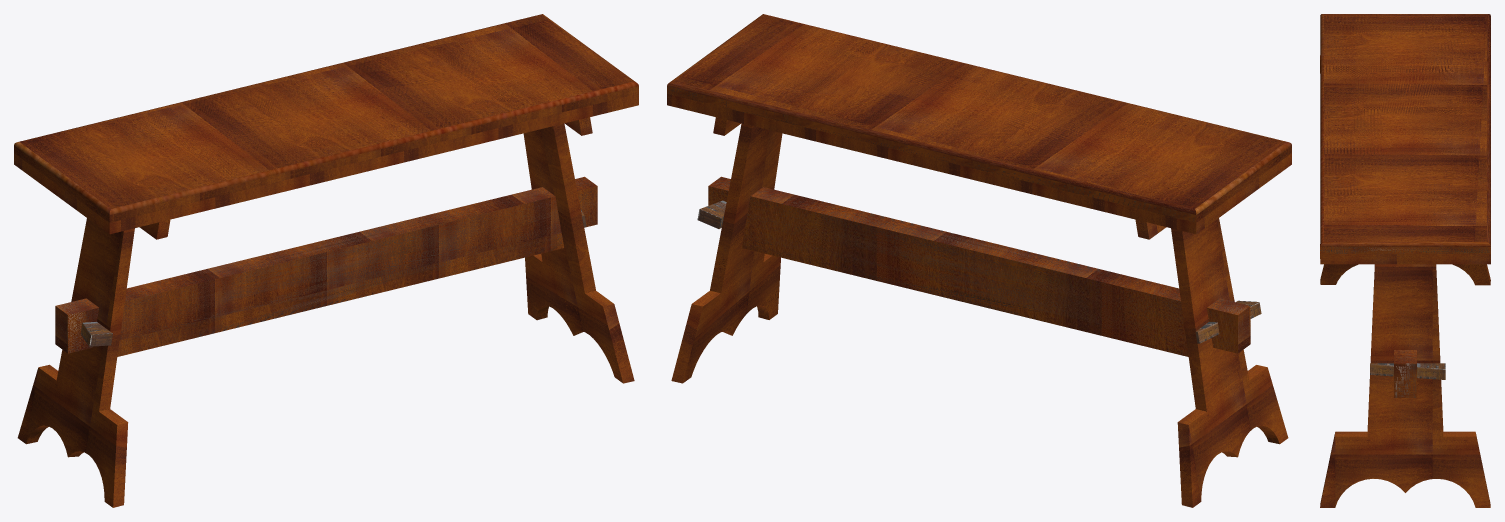
The picture shows the model from 3 angles, left to right: view 1: azimuth 30°, elevation 25°; view 2: azimuth 150°, elevation 25°; view 3: azimuth 270°, elevation 25°; orthographic projection. The views are drawn at different scales.
Parts seen in each view (by area): view 1: mesh3_mesh3-geometry, mesh2_mesh2-geometry, mesh1_mesh1-geometry, mesh4_mesh4-geometry, mesh5_mesh5-geometry; view 2: mesh3_mesh3-geometry, mesh2_mesh2-geometry, mesh1_mesh1-geometry, mesh4_mesh4-geometry, mesh5_mesh5-geometry; view 3: mesh3_mesh3-geometry, mesh1_mesh1-geometry, mesh4_mesh4-geometry, mesh2_mesh2-geometry, mesh5_mesh5-geometry.
Boxes of the visible parts, bbox=[...] form: mesh3_mesh3-geometry: bbox=[14, 14, 638, 222]; mesh2_mesh2-geometry: bbox=[55, 176, 597, 356]; mesh1_mesh1-geometry: bbox=[17, 117, 634, 507]; mesh4_mesh4-geometry: bbox=[14, 94, 638, 234]; mesh5_mesh5-geometry: bbox=[80, 209, 586, 346]; mesh3_mesh3-geometry: bbox=[667, 14, 1291, 222]; mesh2_mesh2-geometry: bbox=[708, 176, 1250, 356]; mesh1_mesh1-geometry: bbox=[671, 117, 1288, 507]; mesh4_mesh4-geometry: bbox=[667, 94, 1291, 234]; mesh5_mesh5-geometry: bbox=[697, 200, 1261, 343]; mesh3_mesh3-geometry: bbox=[1320, 14, 1490, 253]; mesh1_mesh1-geometry: bbox=[1320, 55, 1490, 507]; mesh4_mesh4-geometry: bbox=[1320, 254, 1490, 264]; mesh2_mesh2-geometry: bbox=[1394, 350, 1416, 397]; mesh5_mesh5-geometry: bbox=[1370, 363, 1445, 379].
Size of the model in its own units: 0.8492 by 0.4565 by 0.2655.
